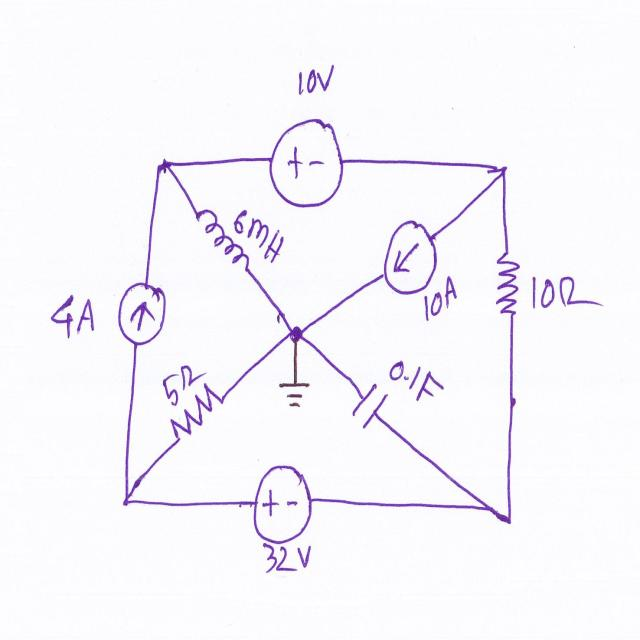capacitor: (348, 377, 393, 432)
current_source: (116, 269, 168, 351), (382, 220, 436, 296)
ground: (272, 373, 318, 413)
inductor: (188, 204, 247, 280)
resistor: (166, 385, 233, 451), (486, 241, 524, 336)
voltage_source: (267, 116, 346, 212), (251, 464, 318, 549)
